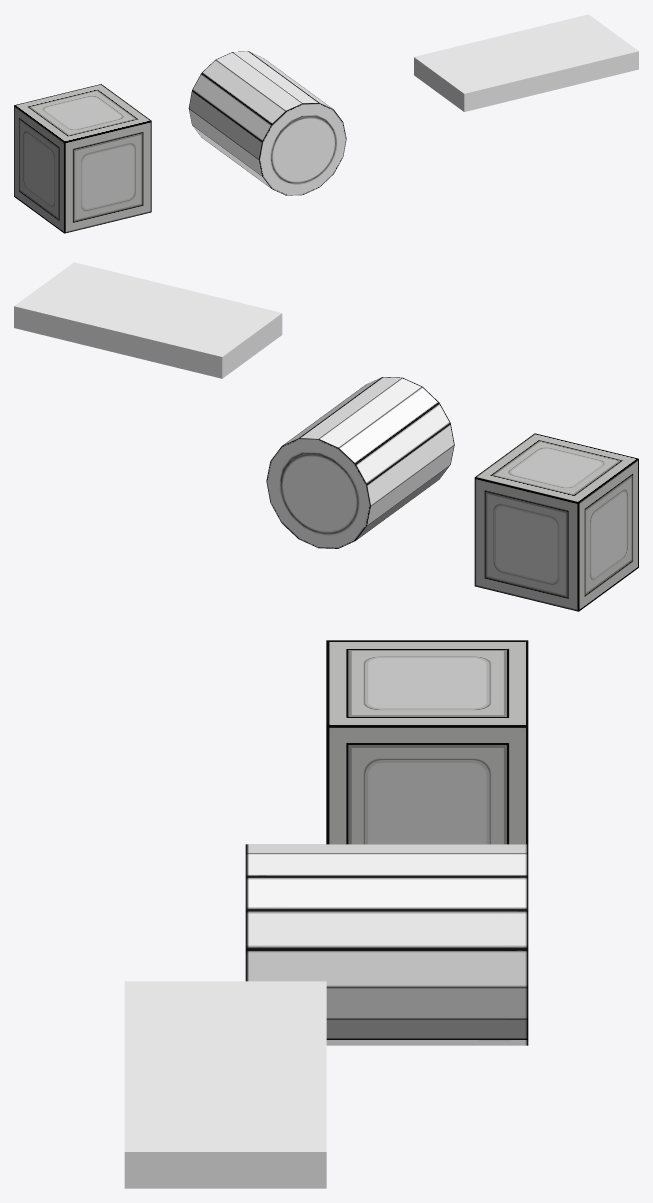
The picture shows the model from 3 angles, top to bottom: view 1: azimuth 30°, elevation 25°; view 2: azimuth 150°, elevation 25°; view 3: azimuth 270°, elevation 25°; orthographic projection. The views are drawn at different scales.
Parts seen in each view (by area): view 1: Crate, Barrel, Screen; view 2: Crate, Barrel, Screen; view 3: Barrel, Screen, Crate.
Part boxes in pixels (x1,y1,x2,y2): Crate: [14, 84, 151, 233]; Barrel: [188, 51, 346, 195]; Screen: [414, 14, 638, 111]; Crate: [474, 433, 638, 611]; Barrel: [266, 377, 454, 548]; Screen: [14, 262, 282, 378]; Barrel: [245, 844, 528, 1045]; Screen: [124, 981, 326, 1188]; Crate: [326, 640, 528, 844].
Size of the model in its own units: 3 by 0.5 by 1.
Materials: 3 (3 with a texture image).
